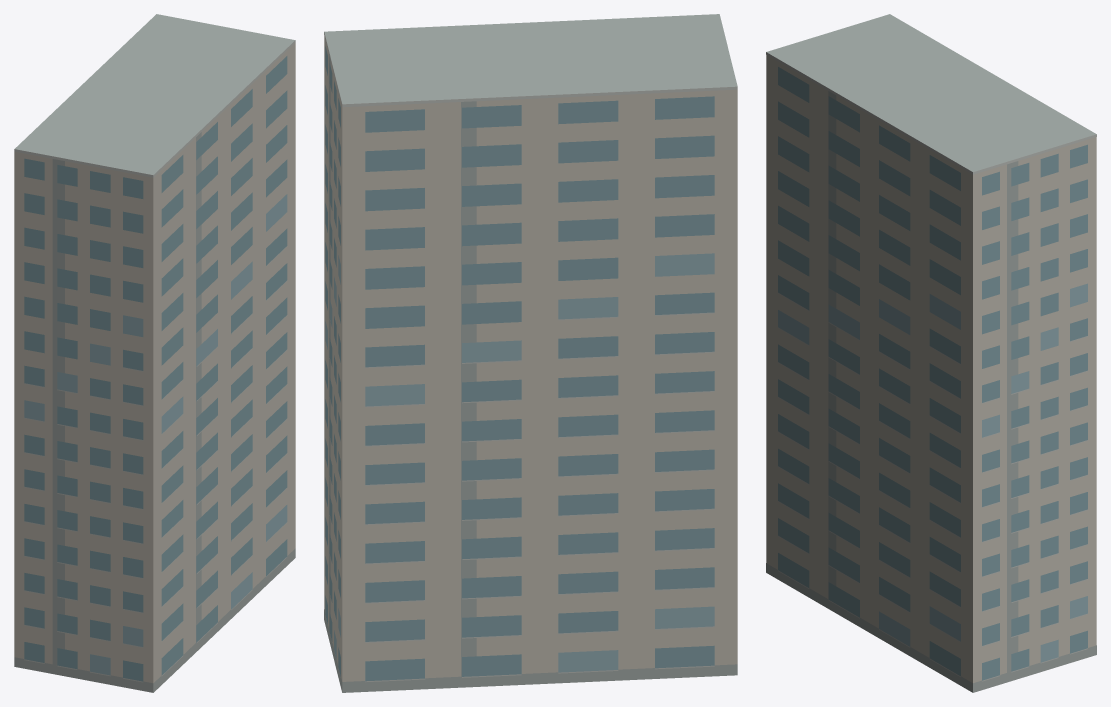
Rendered from residential-d09a97b6-3252-4972-821d-b0506efcea3e.glb.
3 renders of one model, left to right at view 1: azimuth 30°, elevation 25°; view 2: azimuth 150°, elevation 25°; view 3: azimuth 270°, elevation 25°, orthographic. The views are drawn at different scales.
Parts seen in each view (by area): view 1: residential-d09a97b6-3252-4972-821d-b0506efcea3e.tmp; view 2: residential-d09a97b6-3252-4972-821d-b0506efcea3e.tmp; view 3: residential-d09a97b6-3252-4972-821d-b0506efcea3e.tmp.
Boxes of the visible parts, bbox=[...] form: residential-d09a97b6-3252-4972-821d-b0506efcea3e.tmp: bbox=[14, 14, 295, 692]; residential-d09a97b6-3252-4972-821d-b0506efcea3e.tmp: bbox=[324, 14, 737, 692]; residential-d09a97b6-3252-4972-821d-b0506efcea3e.tmp: bbox=[766, 14, 1096, 692].
Bounding box in the file's own units: 31.94 × 49 × 28.21.
